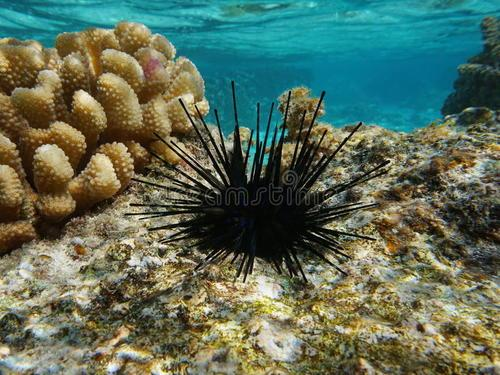urchin: (144, 93, 389, 283)
